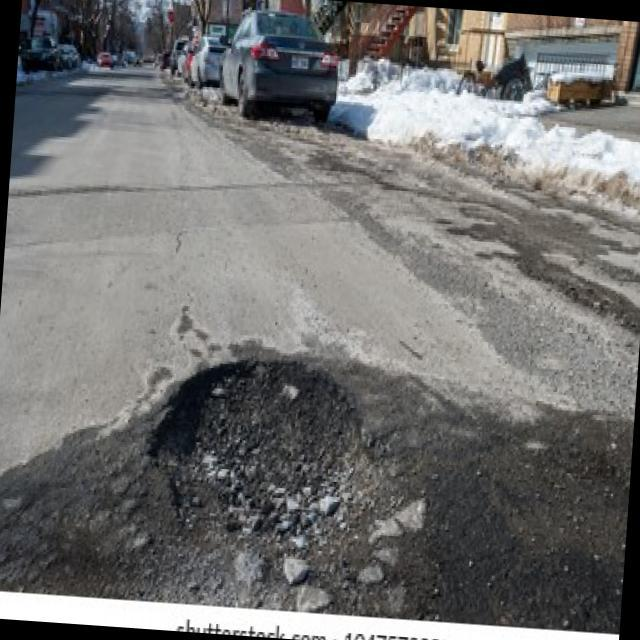Pothole: (144, 348, 396, 568)
